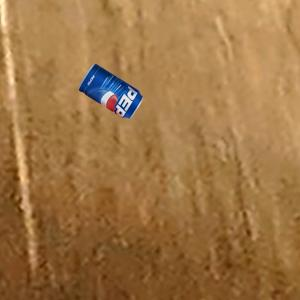can: (79, 61, 146, 122)
